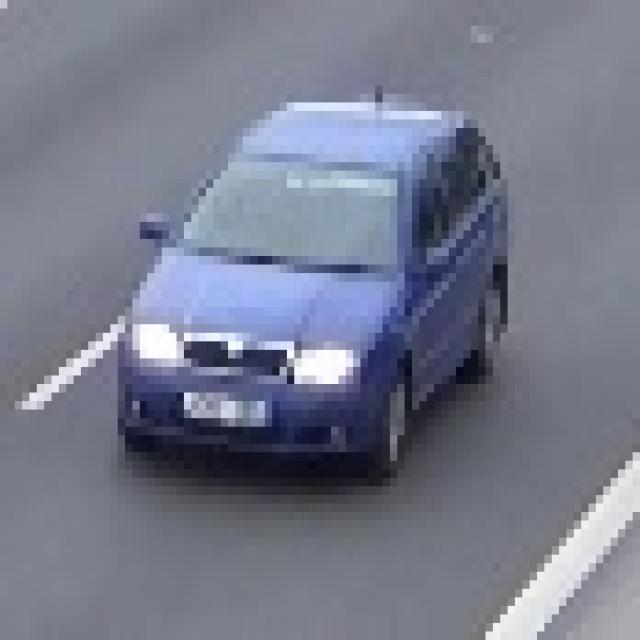blue: (120, 96, 506, 480)
